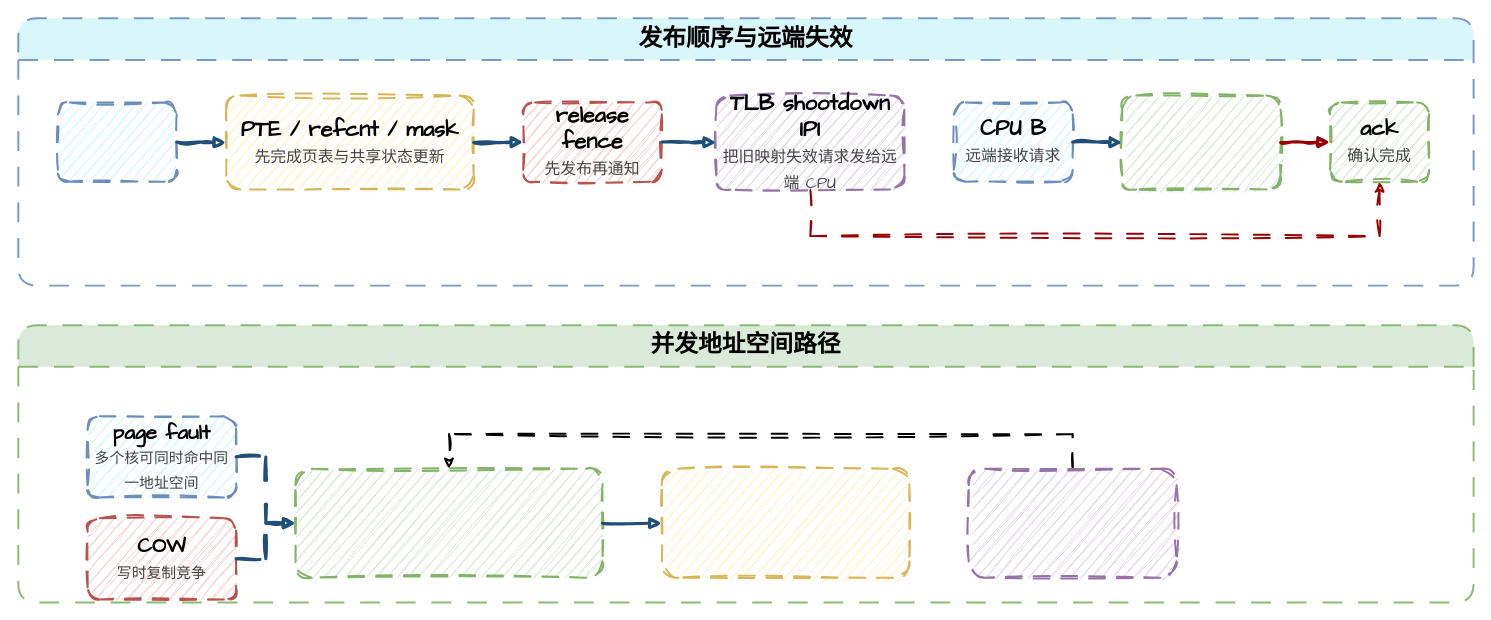
Some shapes in this 1491 by 620 pixel diagram are drawn without their labels. The shapes that lost their labels are listed below. From the top down, each one's centre as x and y in pixels, then its label:
the point at 116,141: CPU A 修改共享状态
the point at 1201,142: acquire / invalidate 观察新状态并失效本地 TLB
the point at 448,522: MM / VMA / VmObject 引用计数 + 锁保护生命周期
the point at 785,522: safe reclaim 页表 / ASID / trapframe / kstack 要等 ack 或引用归零后回收
the point at 1072,522: mmap / munmap 地址空间修改与缺页并发
